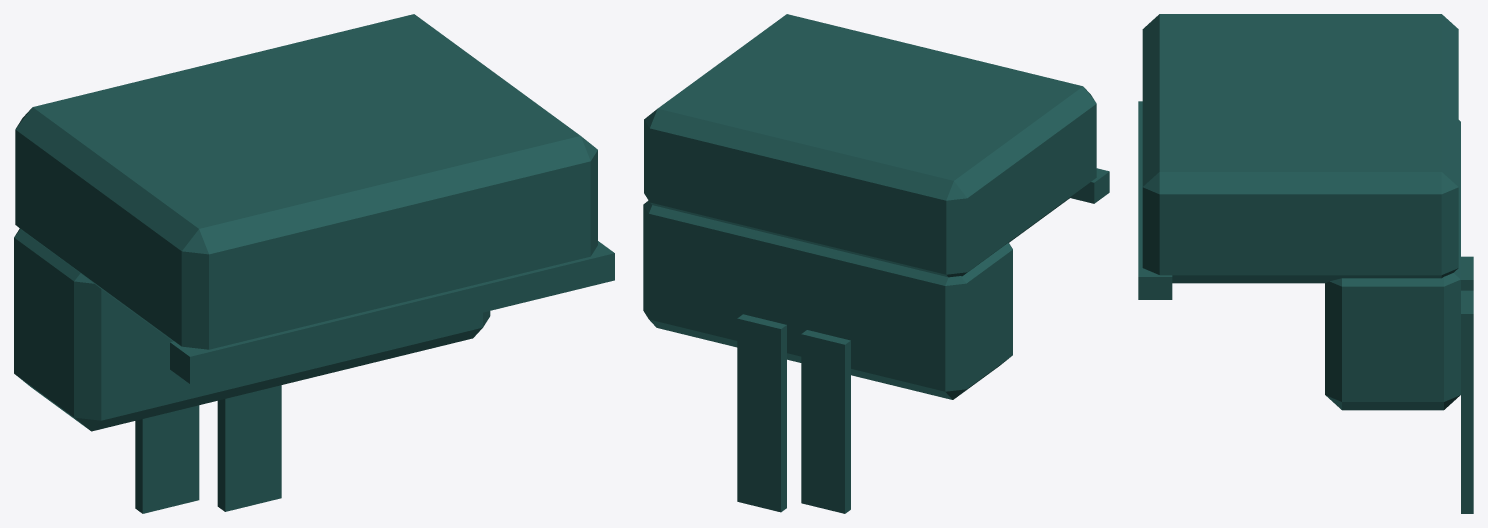
The model's file is headwear-durag.high.346b43cf.glb.
The picture shows the model from 3 angles, left to right: view 1: azimuth 30°, elevation 25°; view 2: azimuth 150°, elevation 25°; view 3: azimuth 270°, elevation 25°; orthographic projection. The views are drawn at different scales.
Parts seen in each view (by area): view 1: headwear-durag; view 2: headwear-durag; view 3: headwear-durag.
Part boxes in pixels (x1=…): headwear-durag: x1=14, y1=14, x2=614, y2=513; headwear-durag: x1=643, y1=14, x2=1109, y2=513; headwear-durag: x1=1138, y1=14, x2=1473, y2=513.
Bounding box in the file's own units: 0.98 × 1.02 × 0.79.
